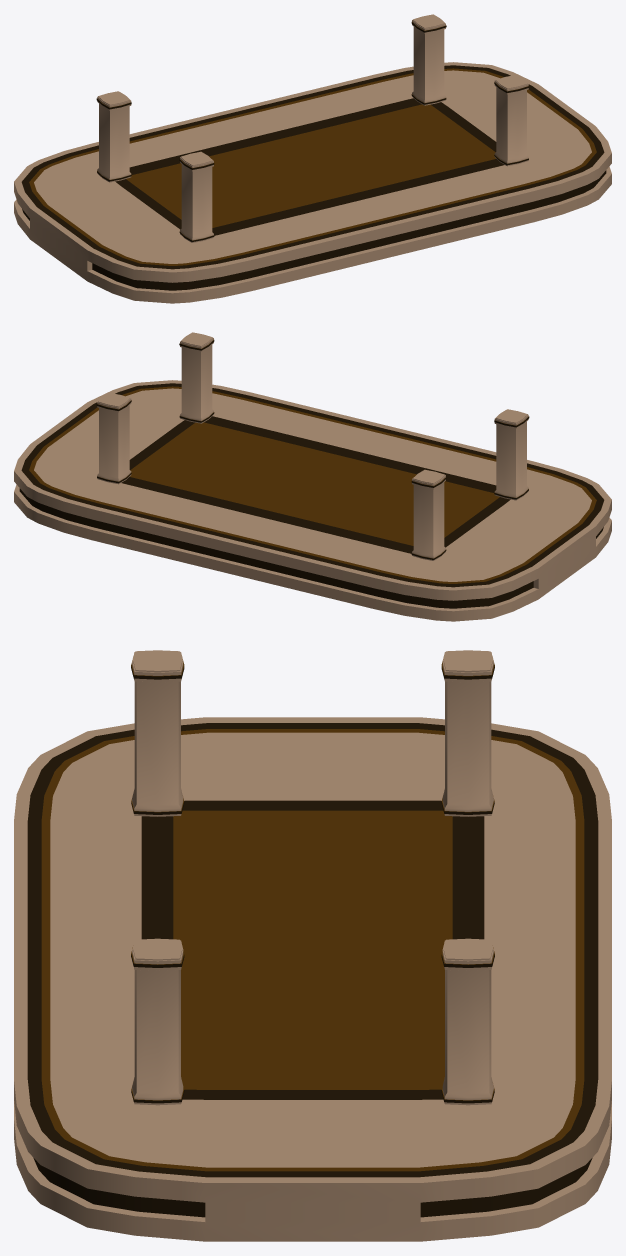
The model's file is Level.5.fbx.
The picture shows the model from 3 angles, top to bottom: view 1: azimuth 30°, elevation 25°; view 2: azimuth 150°, elevation 25°; view 3: azimuth 270°, elevation 25°; orthographic projection. The views are drawn at different scales.
Visible parts, largest first — view 1: Level.5; view 2: Level.5; view 3: Level.5.
Part boxes in pixels (<box>): Level.5: <box>14,14,611,303</box>; Level.5: <box>14,332,611,621</box>; Level.5: <box>14,650,611,1241</box>.
Bounding box in the file's own units: 4980 × 1042 × 2702.
